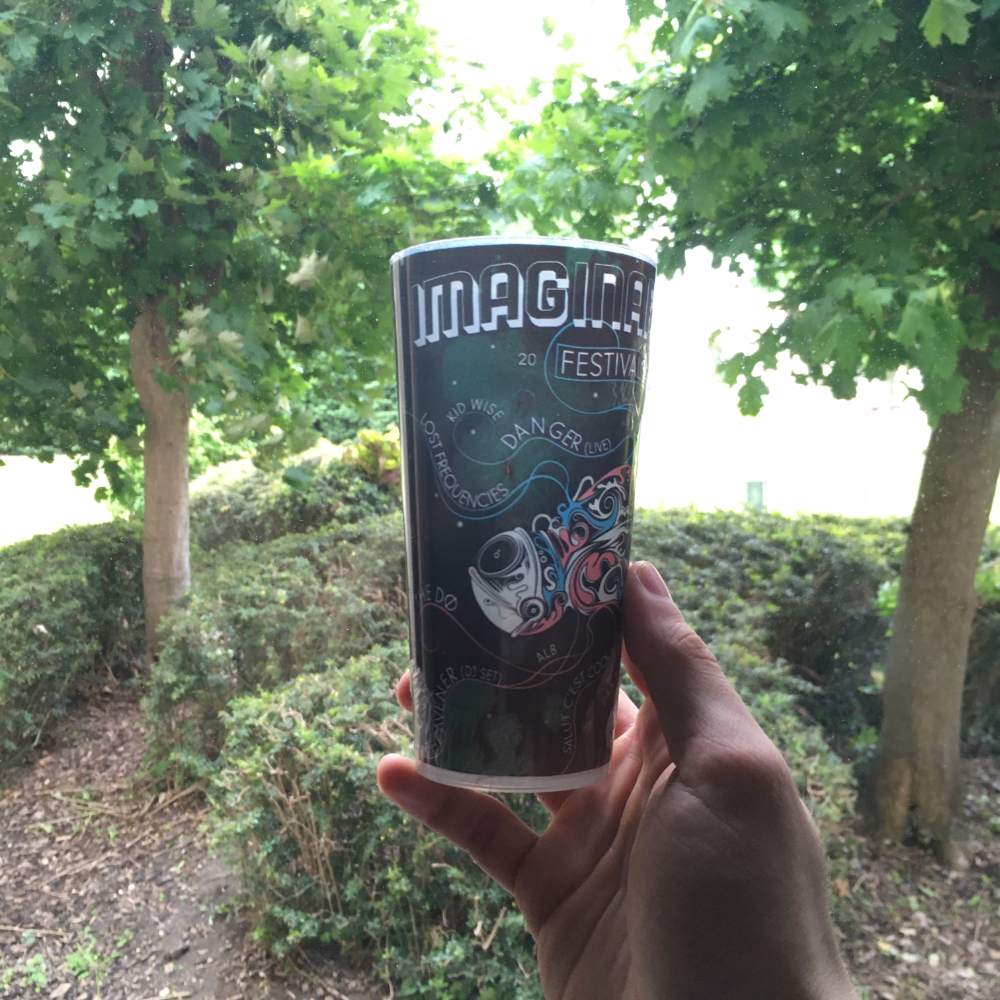ecocup: (390, 235, 658, 789)
